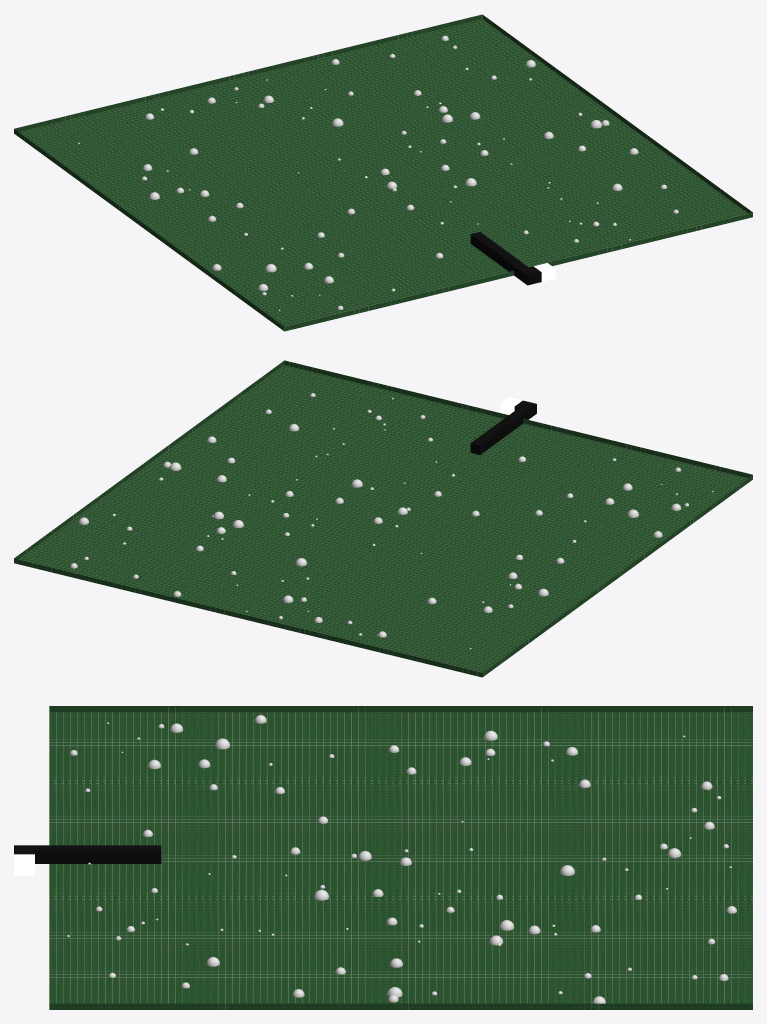
The model's file is map1.gltf.
3 renders of one model, top to bottom at view 1: azimuth 30°, elevation 25°; view 2: azimuth 150°, elevation 25°; view 3: azimuth 270°, elevation 25°, orthographic. The views are drawn at different scales.
Visible parts, largest first — view 1: mesh3-col, mesh1-col, mesh2-col; view 2: mesh3-col, mesh1-col, mesh2-col; view 3: mesh3-col, mesh1-col, mesh2-col.
Boxes of the visible parts, <box> form: mesh3-col: <box>14,14,752,331</box>; mesh1-col: <box>470,232,522,271</box>; mesh2-col: <box>514,263,555,285</box>; mesh3-col: <box>14,360,752,677</box>; mesh1-col: <box>470,411,523,454</box>; mesh2-col: <box>500,397,536,419</box>; mesh3-col: <box>49,706,752,1009</box>; mesh1-col: <box>49,845,161,863</box>; mesh2-col: <box>14,845,49,875</box>.
Bounding box in the file's own units: 100 × 3.12 × 105.
4 materials, 1 textured.
